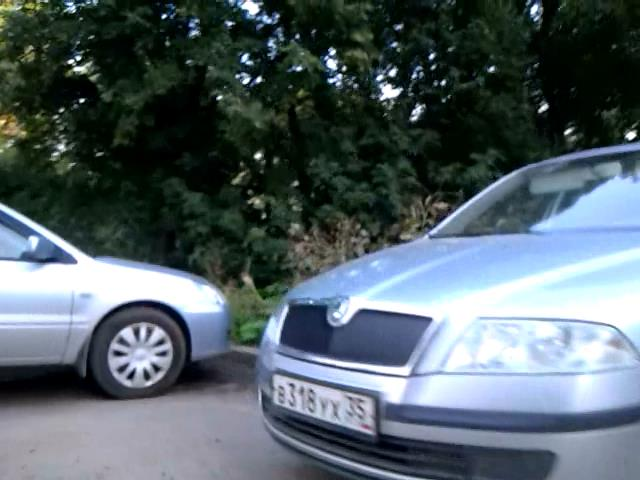car license plate: (271, 371, 376, 442)
